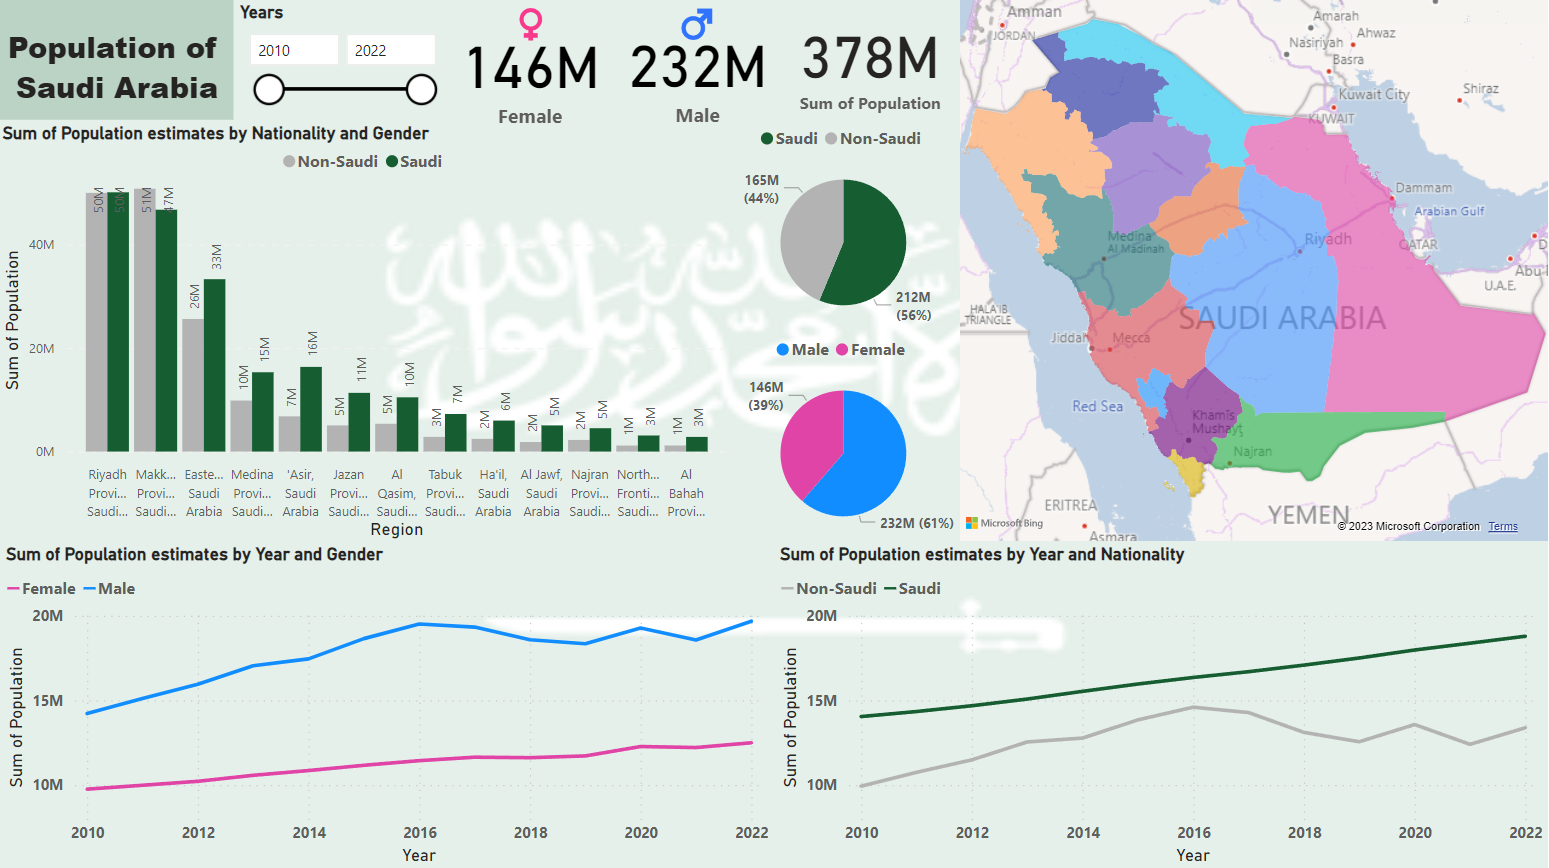

Layout of this report page (visuals, bound fields, positions):
{"tool":"powerbi","page":{"name":"Page 1","canvas":[1280,720],"ordinal":0},"visuals":[{"type":"pieChart","title":"Population estimates by Nationality","fields":{"Category":["Population estimates by gender nationality and region 2010 - 2022.Nationality"],"Y":["Sum(Population estimates by gender nationality and region 2010 - 2022.Population estimates)"]},"box":[601.2,99.3,192.4,173.8],"z":0},{"type":"clusteredColumnChart","title":"Sum of Population estimates by Nationality and Gender","fields":{"Category":["Population estimates by gender nationality and region 2010 - 2022.Region"],"Y":["Sum(Population estimates by gender nationality and region 2010 - 2022.Population estimates)"],"Series":["Population estimates by gender nationality and region 2010 - 2022.Nationality"]},"box":[0,100.2,601.2,347.6],"z":1000},{"type":"slicer","title":"Years","fields":{"Values":["Population estimates by gender nationality and region 2010 - 2022.Year"]},"box":[193.3,0,175.6,99.3],"z":2000},{"type":"pieChart","title":"Population estimates by Gender","fields":{"Category":["Population estimates by gender nationality and region 2010 - 2022.Gender"],"Y":["Sum(Population estimates by gender nationality and region 2010 - 2022.Population estimates)"]},"box":[601.2,274,192.4,173.8],"z":3000},{"type":"filledMap","fields":{"Category":["Population estimates by gender nationality and region 2010 - 2022.Region"],"Series":["Population estimates by gender nationality and region 2010 - 2022.Region"]},"box":[793.5,0,486.5,447.5],"z":4000},{"type":"textbox","box":[0,0,193.3,99.3],"z":5000},{"type":"lineChart","fields":{"Y":["Sum(Population estimates by gender nationality and region 2010 - 2022.Population estimates)"],"Category":["Population estimates by gender nationality and region 2010 - 2022.Year"],"Series":["Population estimates by gender nationality and region 2010 - 2022.Nationality"]},"box":[640.1,447.8,640.1,272.2],"z":6000},{"type":"lineChart","fields":{"Y":["Sum(Population estimates by gender nationality and region 2010 - 2022.Population estimates)"],"Category":["Population estimates by gender nationality and region 2010 - 2022.Year"],"Series":["Population estimates by gender nationality and region 2010 - 2022.Gender"]},"box":[0,447.8,640.1,272.2],"z":7000},{"type":"card","fields":{"Values":["Sum(Population estimates by gender nationality and region 2010 - 2022.Population estimates)"]},"box":[644.6,0,149,84.2],"z":8000},{"type":"card","fields":{"Values":["Population estimates by gender nationality and region 2010 - 2022.Female"]},"box":[368.9,0.9,139.2,119.7],"z":9000},{"type":"image","box":[415.9,0,45.2,39.9],"z":10000},{"type":"image","box":[553.3,0,45.2,39.9],"z":11000},{"type":"card","fields":{"Values":["Population estimates by gender nationality and region 2010 - 2022.Male"]},"box":[508.1,0,136.6,119.7],"z":12000},{"type":"textbox","box":[642,70.9,154.3,29.3],"z":13000}]}

Visuals, with their boxes in screenshot pixels (x1, y1, x2, y2), scaled from the page's 1280x720 canvas onto the 1549x868 screenshot:
"Population estimates by Nationality" pieChart: 728, 120, 960, 329
"Sum of Population estimates by Nationality and Gender" clusteredColumnChart: 0, 121, 728, 540
"Years" slicer: 234, 0, 446, 120
"Population estimates by Gender" pieChart: 728, 330, 960, 540
filledMap - Population estimates by gender nationality and region 2010 - 2022.Region x Population estimates by gender nationality and region 2010 - 2022.Region: 960, 0, 1548, 539
textbox: 0, 0, 234, 120
lineChart - Sum(Population estimates by gender nationality and region 2010 - 2022.Population estimates) x Population estimates by gender nationality and region 2010 - 2022.Year: 775, 540, 1548, 867
lineChart - Sum(Population estimates by gender nationality and region 2010 - 2022.Population estimates) x Population estimates by gender nationality and region 2010 - 2022.Year: 0, 540, 775, 867
card - Sum(Population estimates by gender nationality and region 2010 - 2022.Population estimates): 780, 0, 960, 102
card - Population estimates by gender nationality and region 2010 - 2022.Female: 446, 1, 615, 145
image: 503, 0, 558, 48
image: 670, 0, 724, 48
card - Population estimates by gender nationality and region 2010 - 2022.Male: 615, 0, 780, 144
textbox: 777, 85, 964, 121
